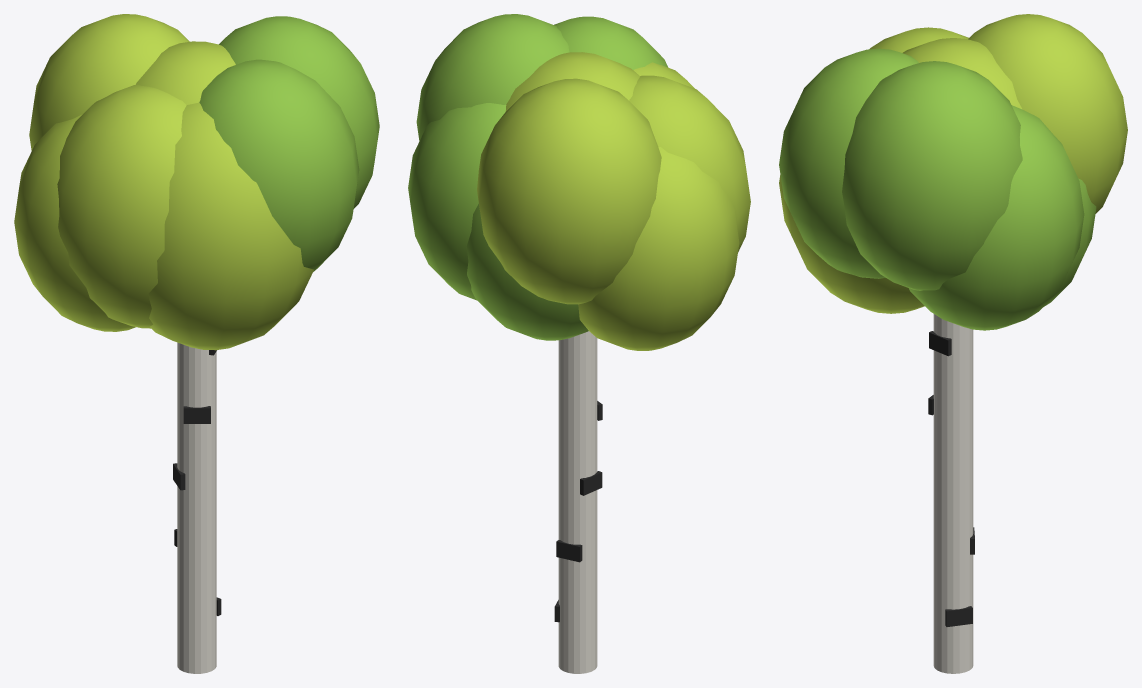
Rendered from tree_birch.glb.
The picture shows the model from 3 angles, left to right: view 1: azimuth 30°, elevation 25°; view 2: azimuth 150°, elevation 25°; view 3: azimuth 270°, elevation 25°; orthographic projection. The views are drawn at different scales.
Parts seen in each view (by area): view 1: Sphere, Sphere.001, Cylinder, Cube; view 2: Sphere, Sphere.001, Cylinder, Cube; view 3: Sphere.001, Sphere, Cylinder, Cube.
Part boxes in pixels (x1,y1,x2,y2): Sphere: [14, 14, 313, 350]; Sphere.001: [199, 16, 379, 271]; Cylinder: [177, 342, 216, 673]; Cube: [173, 350, 221, 615]; Sphere: [477, 52, 750, 350]; Sphere.001: [408, 14, 668, 340]; Cylinder: [558, 331, 597, 673]; Cube: [554, 401, 602, 622]; Sphere.001: [779, 48, 1096, 330]; Sphere: [779, 14, 1127, 313]; Cylinder: [933, 314, 973, 673]; Cube: [928, 331, 974, 626].
Bounding box in the file's own units: 3 × 5.61 × 2.8.
